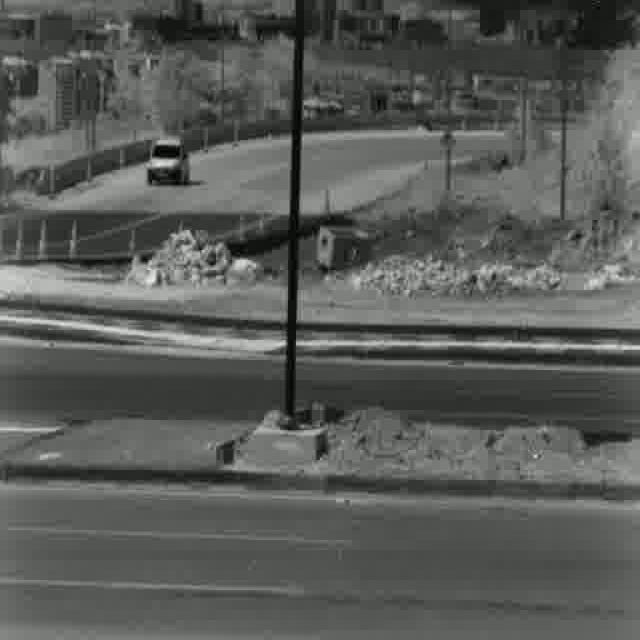Car: (145, 136, 191, 182)
